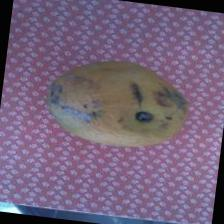Orange Rotten: (29, 38, 204, 170)
